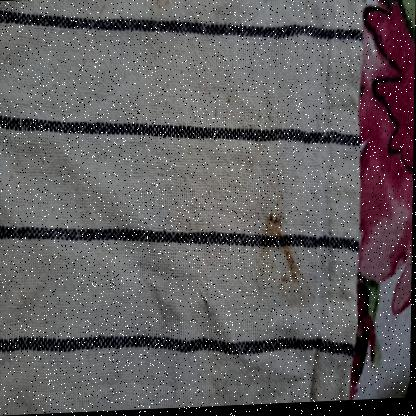spot: (262, 209, 284, 255), (239, 141, 265, 176), (288, 266, 304, 287), (281, 248, 296, 269), (279, 270, 292, 293), (152, 0, 170, 10), (225, 89, 233, 109), (259, 109, 266, 122)
